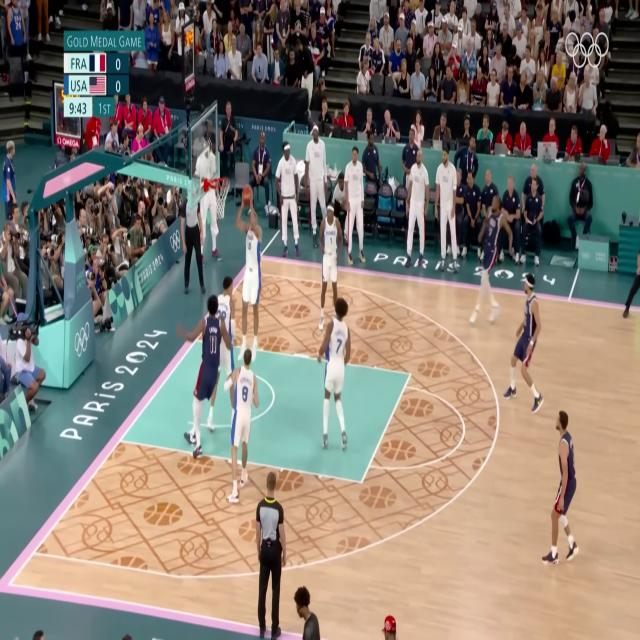ball-handler: (233, 186, 265, 362)
player: (167, 294, 226, 460), (311, 299, 360, 465), (538, 401, 583, 569), (224, 340, 255, 510), (470, 188, 505, 332), (310, 193, 346, 332), (513, 270, 546, 410), (202, 270, 237, 395)
